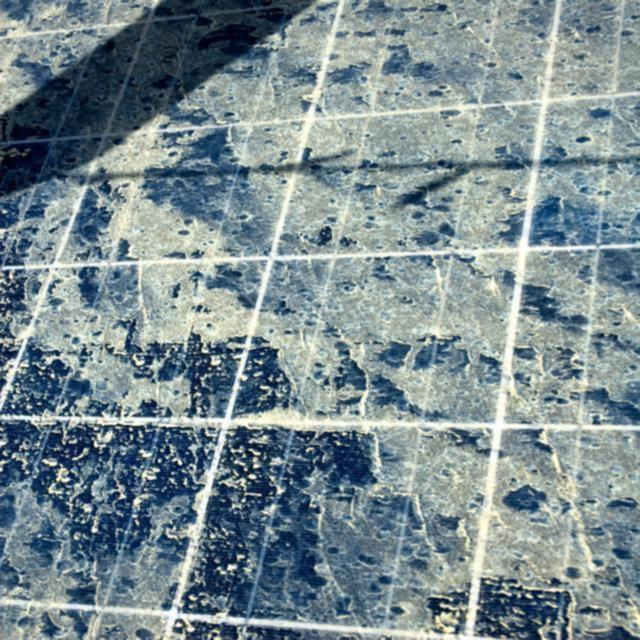soiled: (1, 2, 639, 639)
